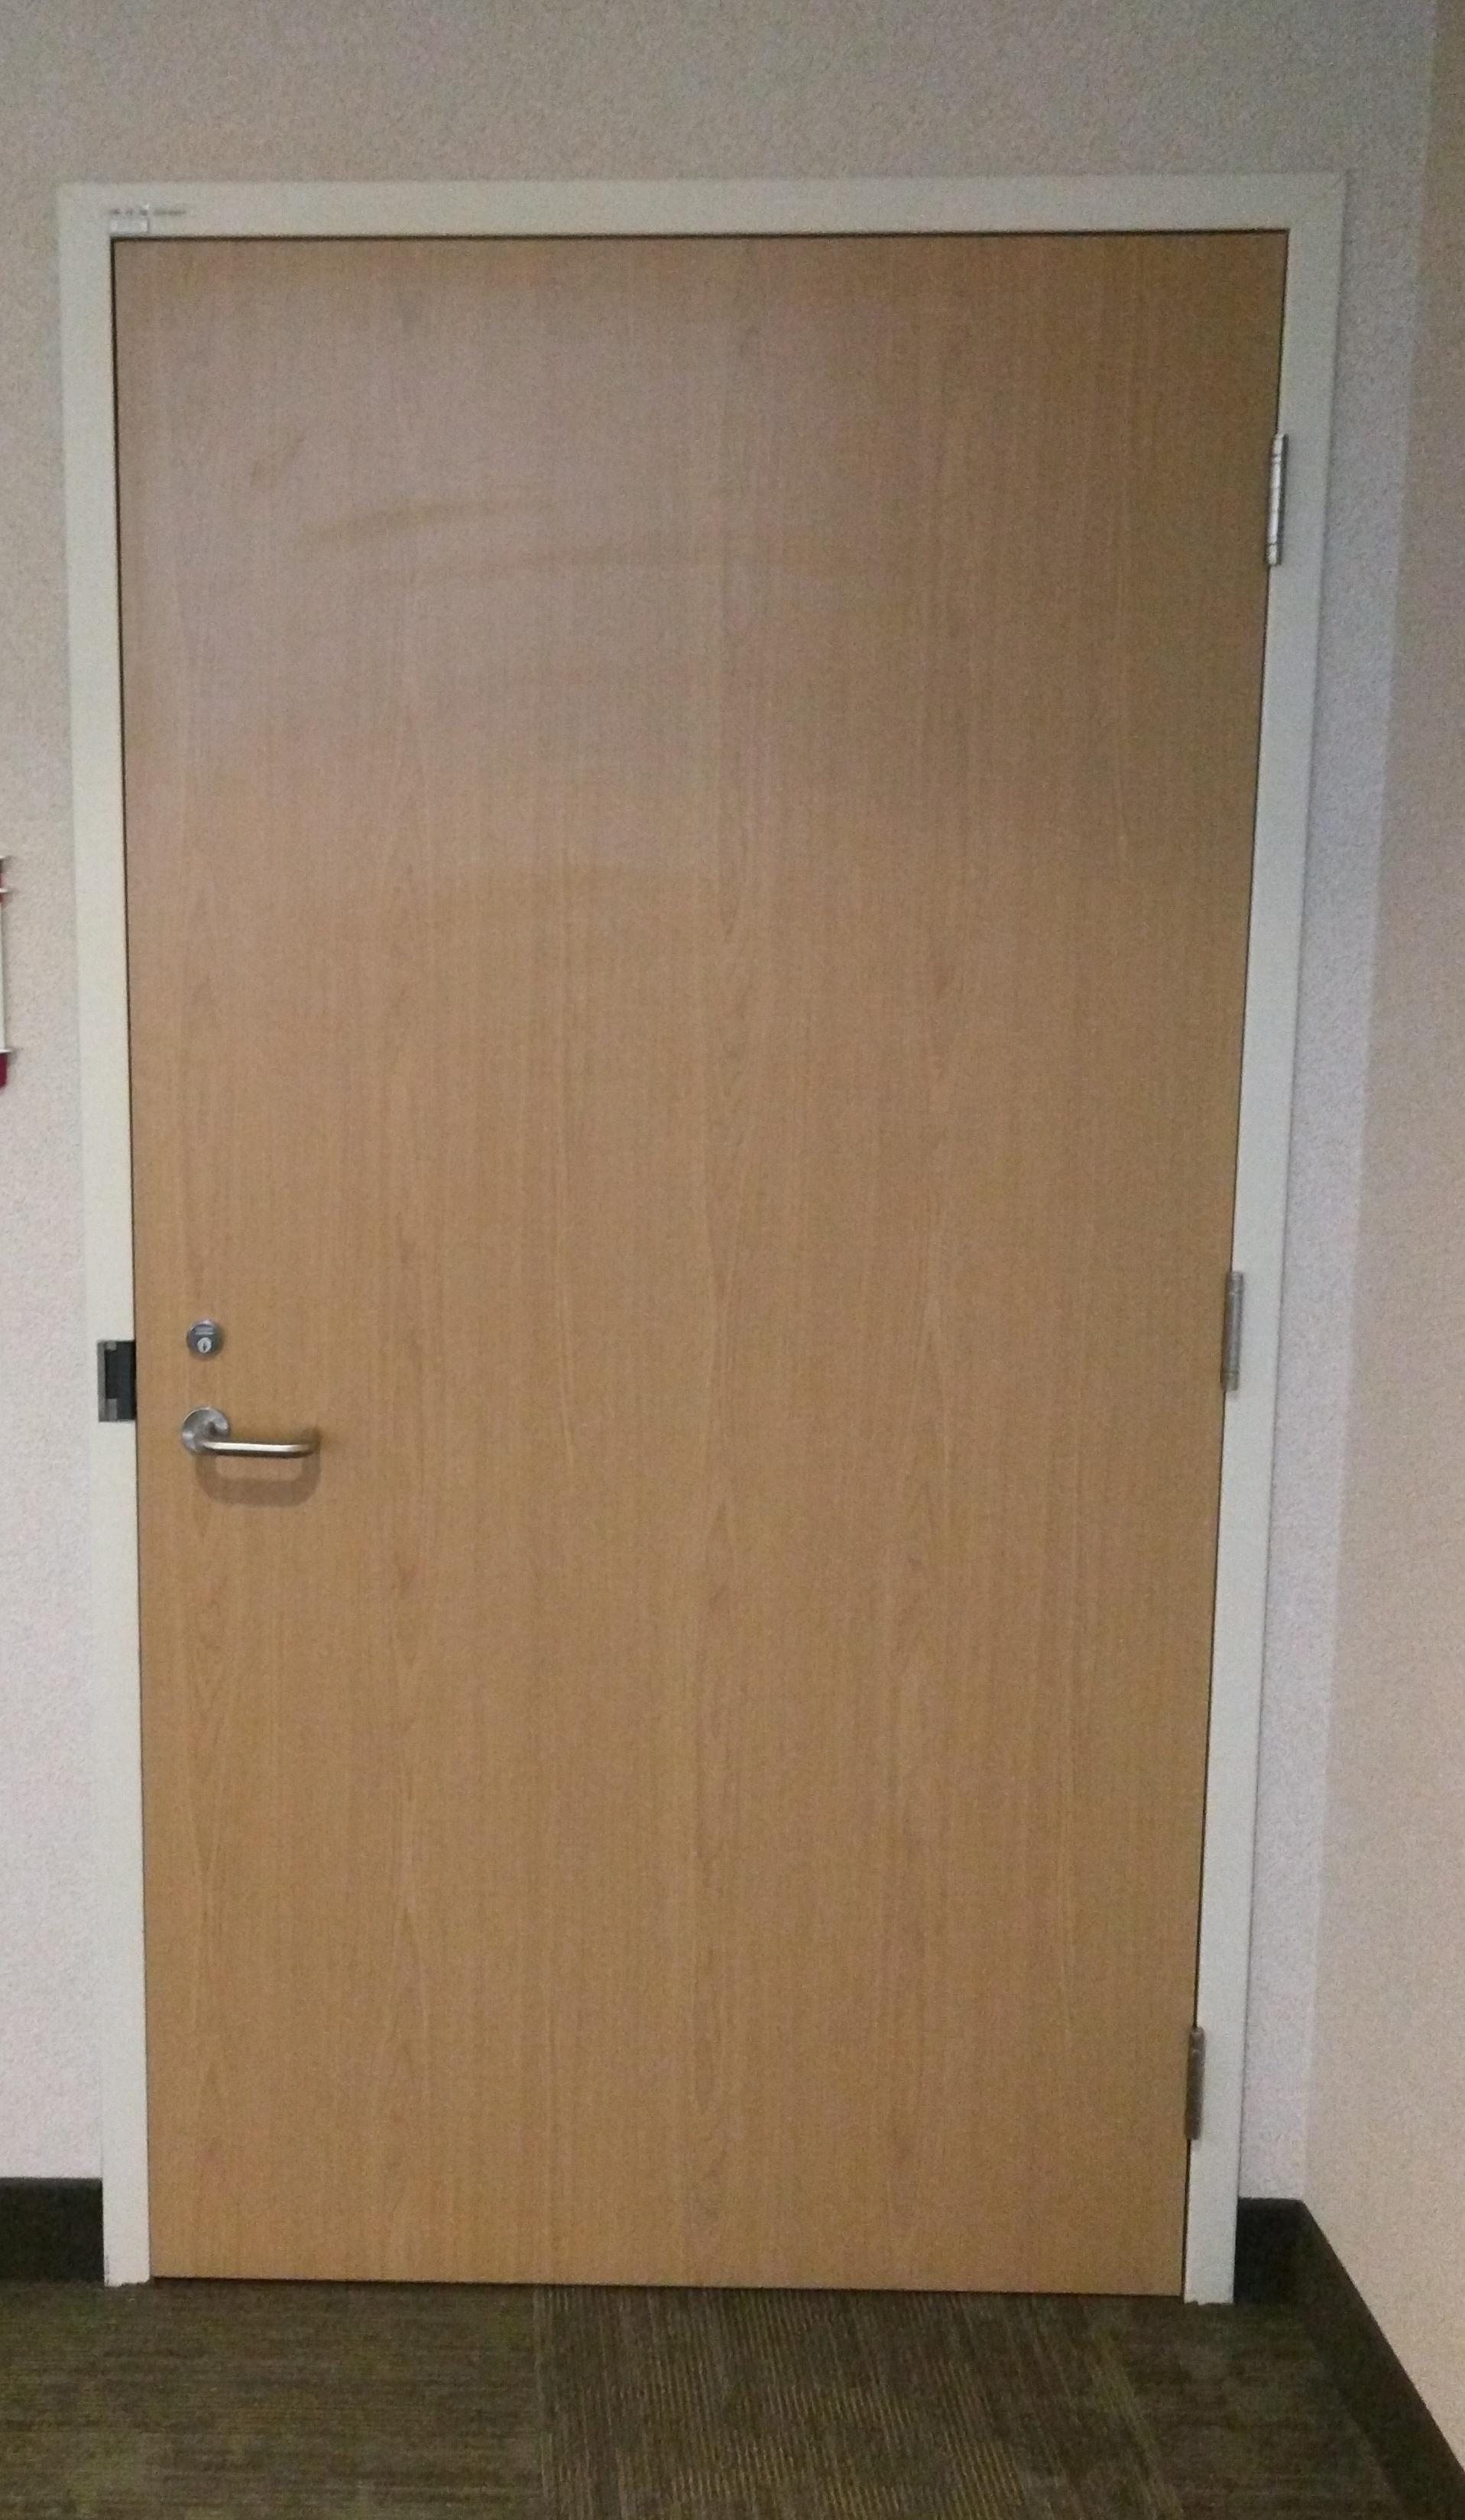door: (98, 215, 1237, 2325)
